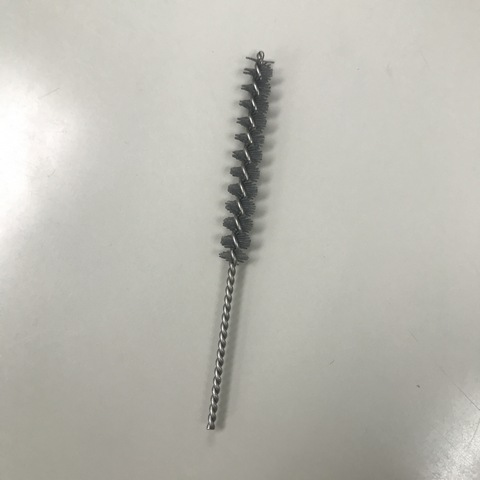Twist Brush-A: (202, 39, 276, 437)
